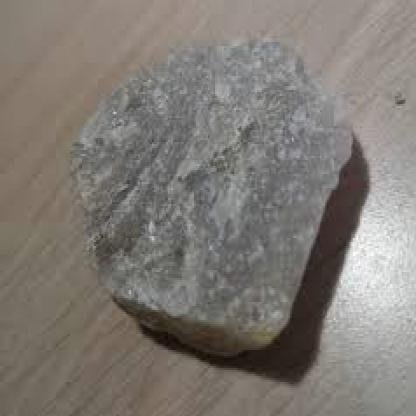Metamorphic_Quartize: (66, 18, 369, 366)
